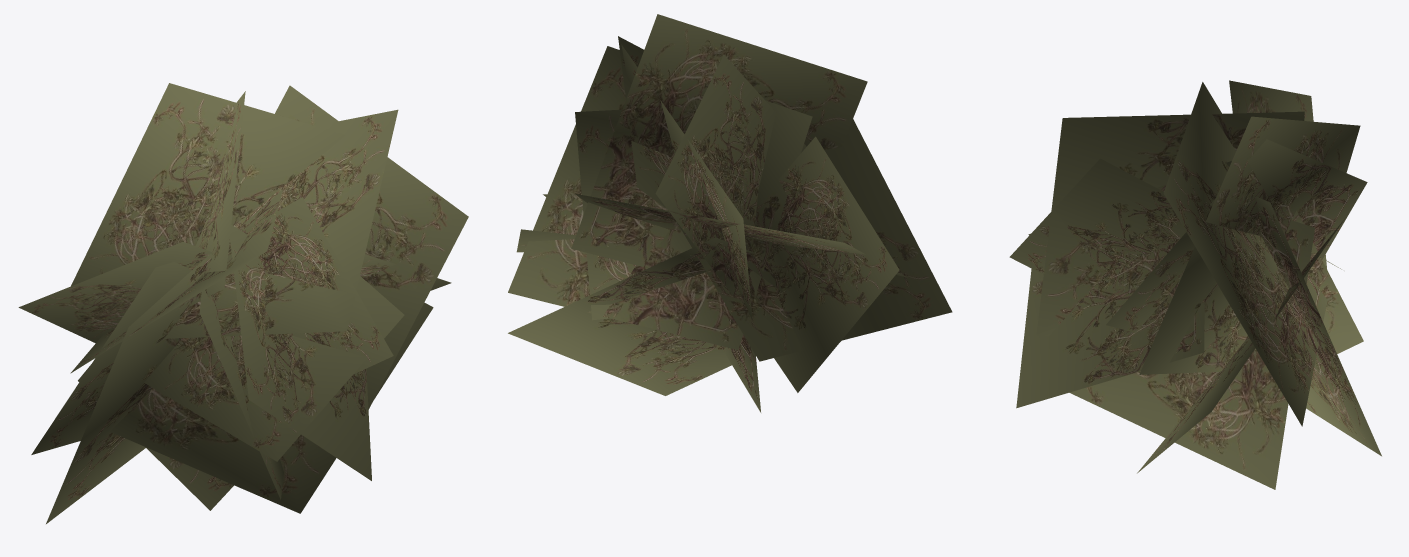
Rendered from brush_egypt_desert_2_tankdrive3.glb.
The picture shows the model from 3 angles, left to right: view 1: azimuth 30°, elevation 25°; view 2: azimuth 150°, elevation 25°; view 3: azimuth 270°, elevation 25°; orthographic projection. The views are drawn at different scales.
Size of the model in its own units: 129 by 133 by 97.98.
Materials: 1 (1 with a texture image).
